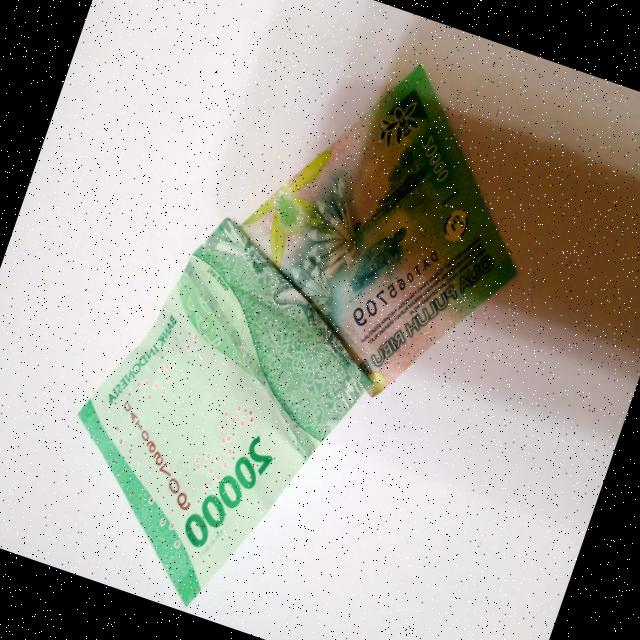20K: (22, 0, 578, 640)
